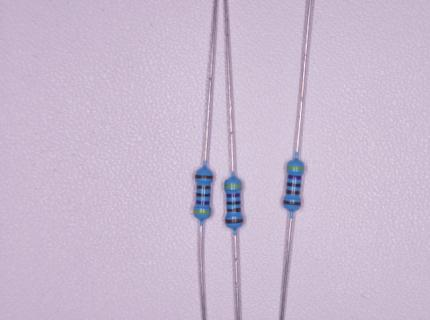Black band: (287, 182, 301, 188), (196, 192, 211, 197), (226, 201, 241, 205)
Brown band: (283, 200, 301, 207), (225, 219, 243, 224), (195, 175, 214, 179), (197, 185, 211, 190), (286, 190, 300, 195), (227, 208, 241, 212)
Violet band: (287, 174, 301, 181), (226, 193, 241, 198), (196, 200, 209, 205)
Yellow band: (287, 166, 304, 171), (193, 210, 211, 214), (224, 184, 242, 188)
